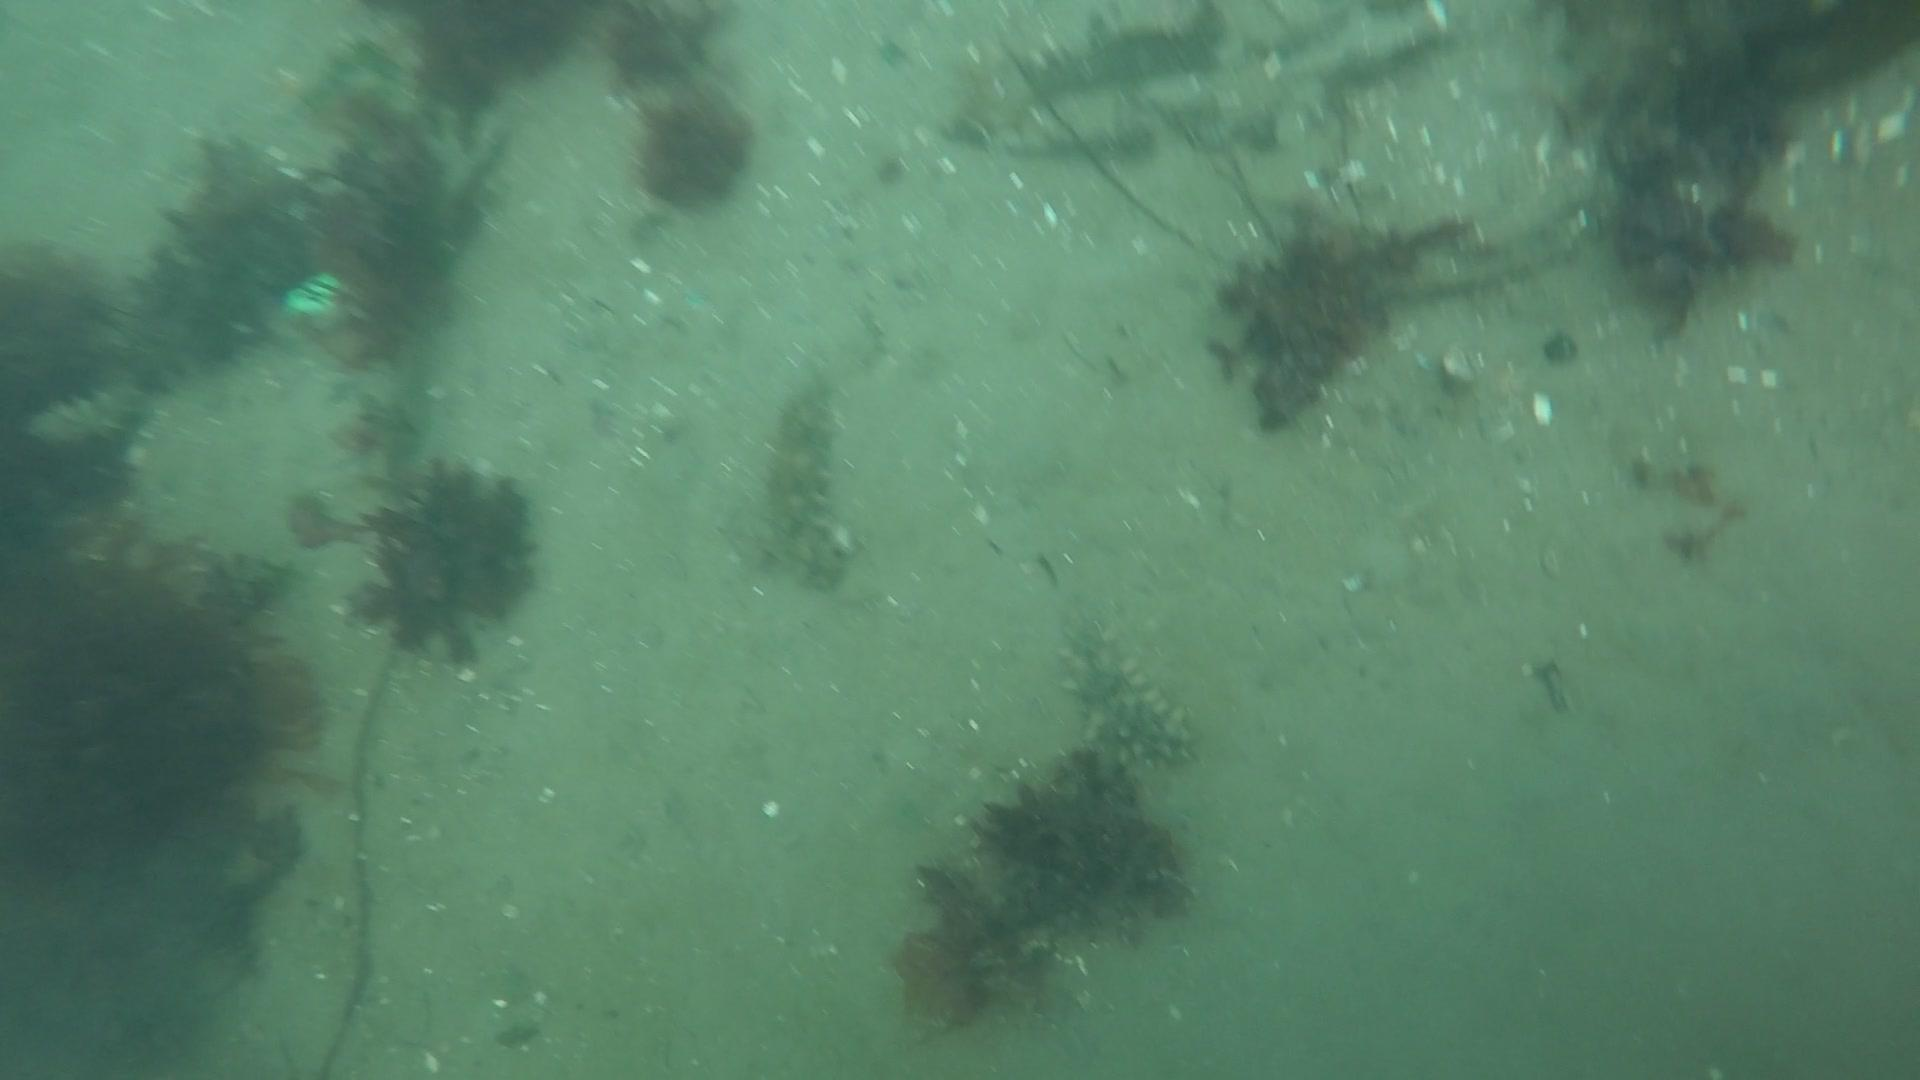holothurian: (1052, 607, 1201, 777), (762, 377, 855, 596), (22, 382, 162, 454)
